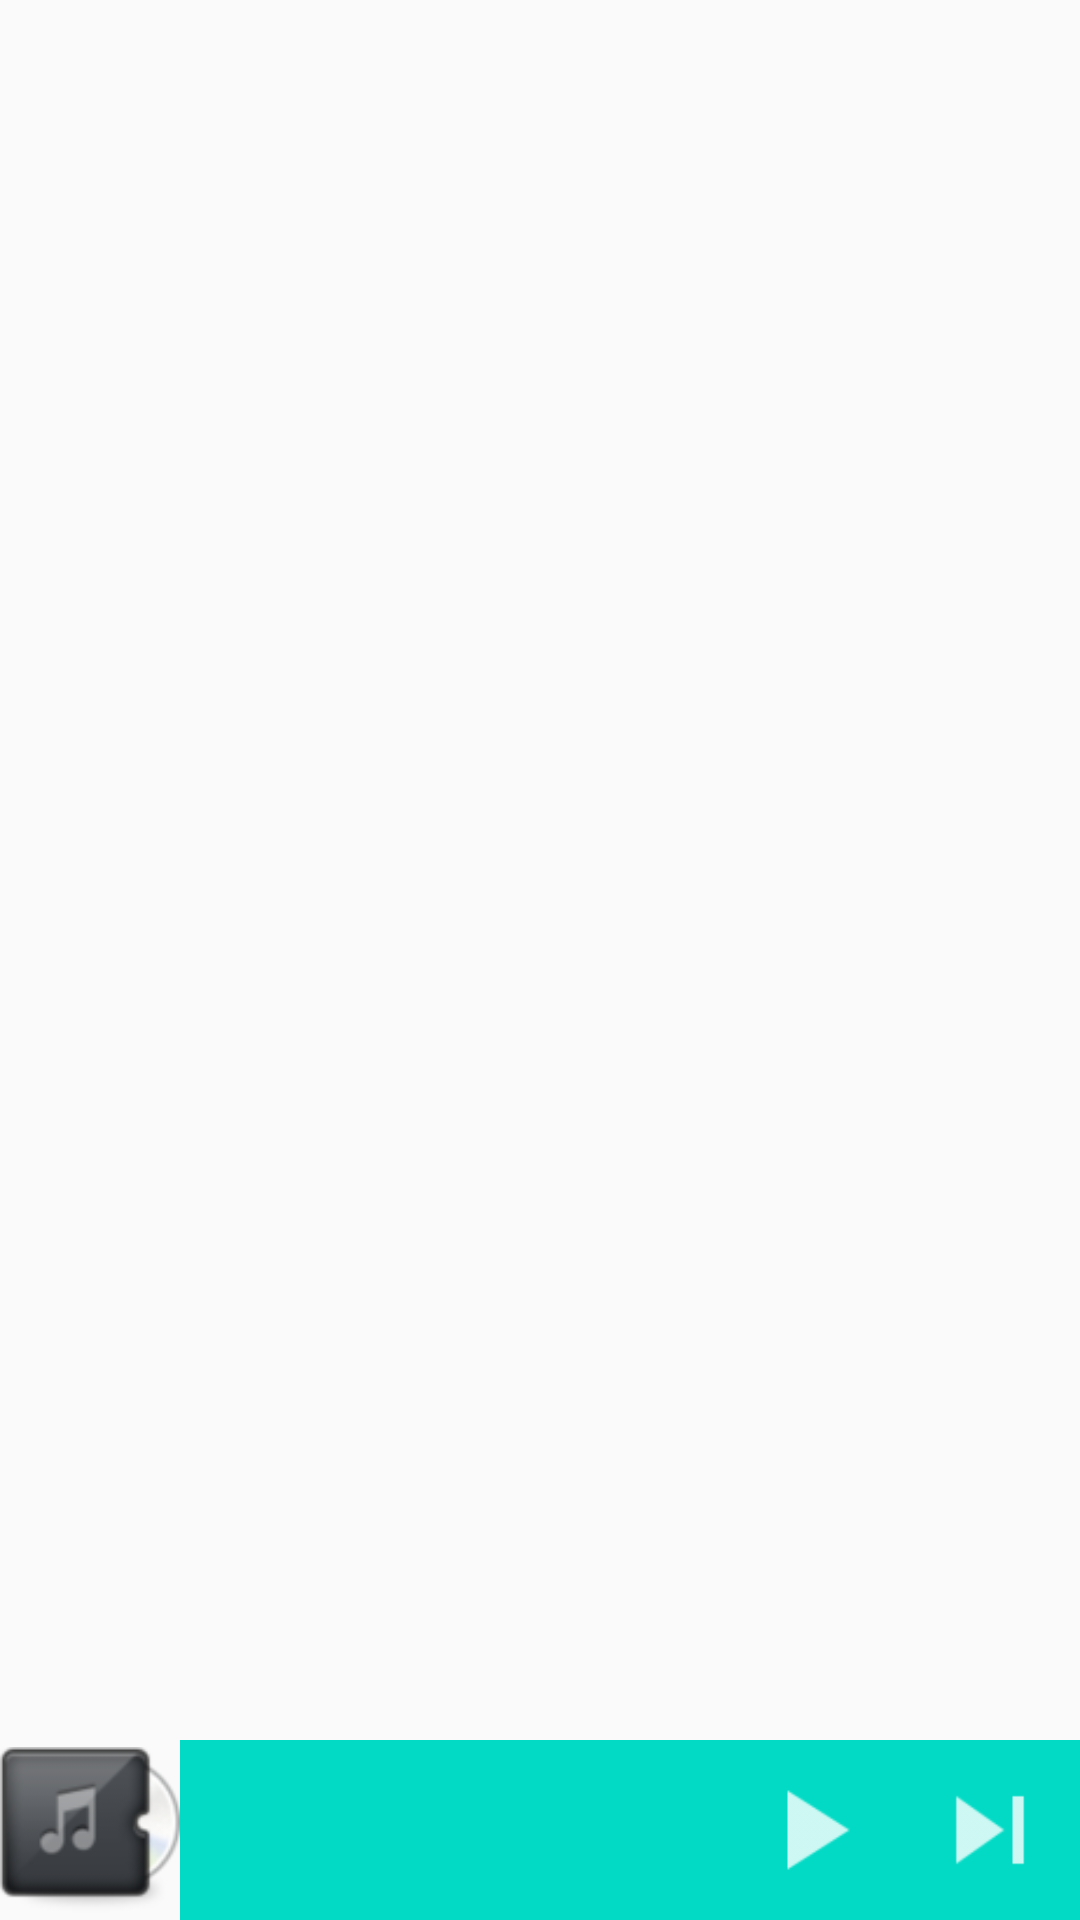

Screen size 1080px×1920px. Icon name, then its center in pixels as [x,y]:
music next: [990,1830]
song play: [818,1830]
